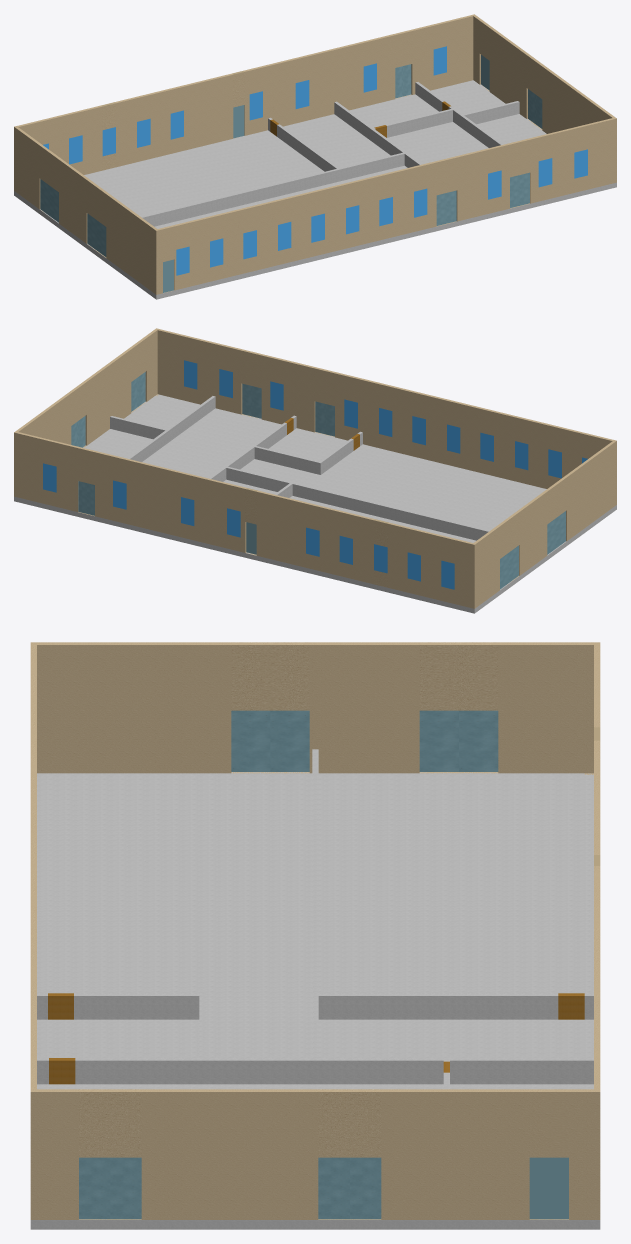
The model's file is Ozone_Generator_Room_expansion.glb.
3 views of the same model, one above another, from view 1: azimuth 30°, elevation 25°; view 2: azimuth 150°, elevation 25°; view 3: azimuth 270°, elevation 25° (orthographic). The views are drawn at different scales.
Parts seen in each view (by area): view 1: Floor1; view 2: Floor1; view 3: Floor1.
Boxes of the visible parts, box(x1,y1,x2,y2) form: Floor1: box(14, 14, 616, 299); Floor1: box(14, 328, 616, 613); Floor1: box(30, 642, 600, 1229).
Bounding box in the file's own units: 40.64 × 5.8 × 21.76.
5 materials, 5 textured.
